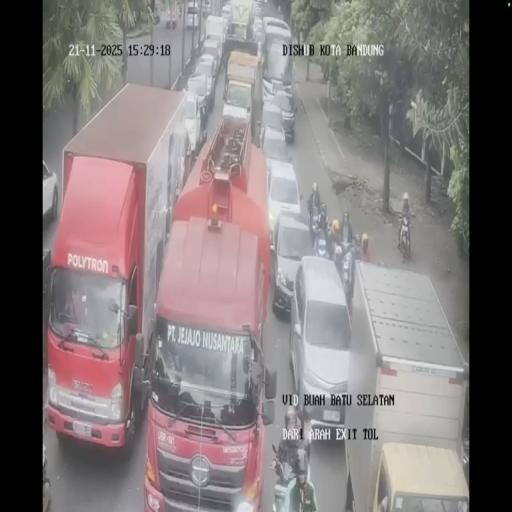3: (46, 84, 194, 454), (332, 260, 468, 512), (222, 50, 259, 141), (201, 0, 211, 16)
car: (272, 210, 316, 318), (258, 101, 288, 159), (185, 73, 212, 128), (262, 16, 292, 52), (200, 38, 222, 81), (184, 2, 200, 29), (252, 16, 264, 48), (220, 2, 232, 31), (252, 0, 264, 18)
truck: (398, 213, 412, 261)
